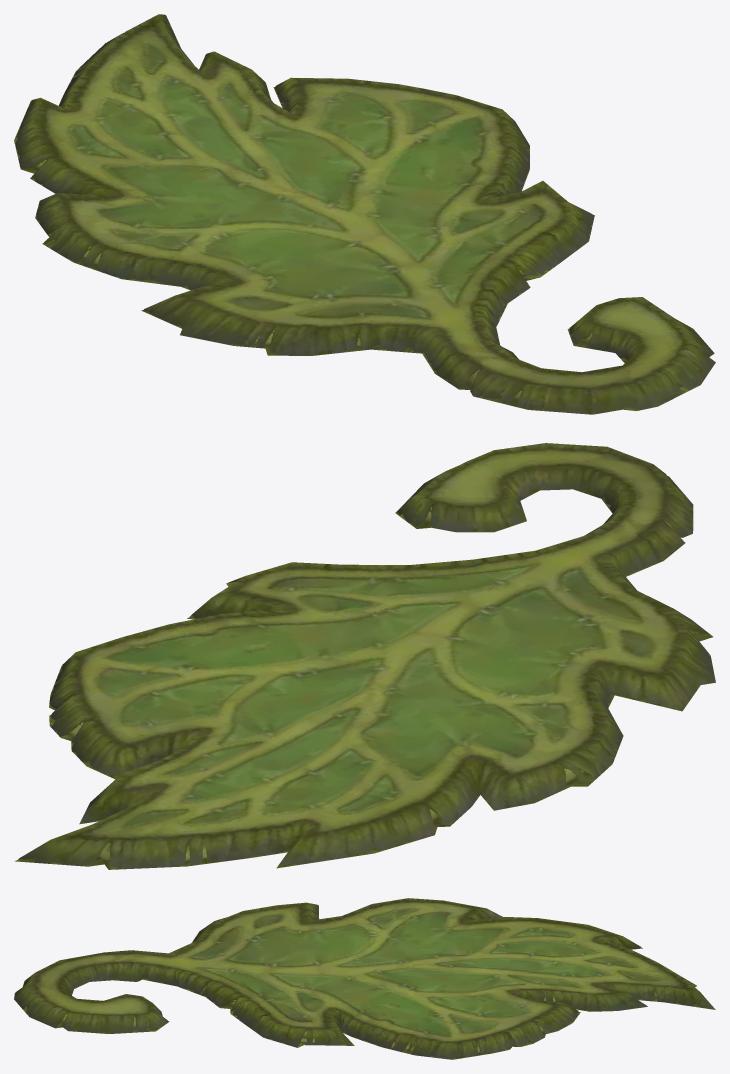
3 views of the same model, one above another, from view 1: azimuth 30°, elevation 25°; view 2: azimuth 150°, elevation 25°; view 3: azimuth 270°, elevation 25° (orthographic). The views are drawn at different scales.
Size of the model in its own units: 2.62 by 0.0797 by 4.95.
Materials: 1 (1 with a texture image).
